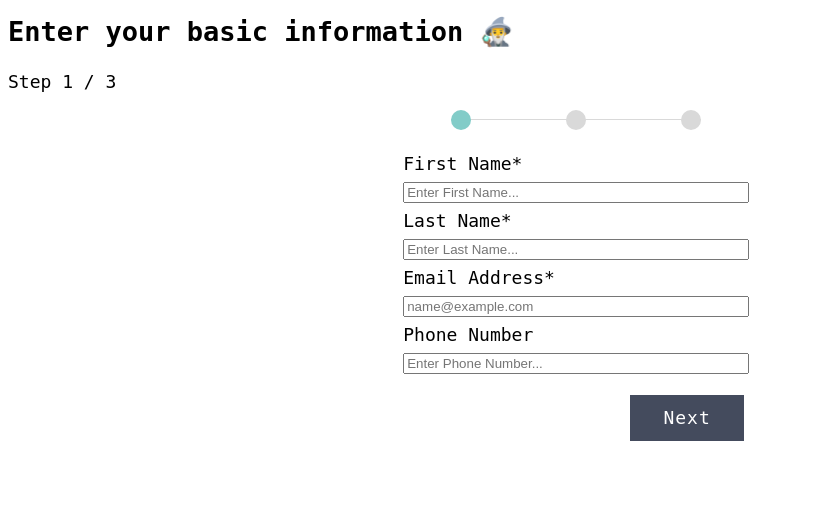
Scenario: email is required
In the field with test id "fname": (576, 192) [403,182,749,203], type "yueer"
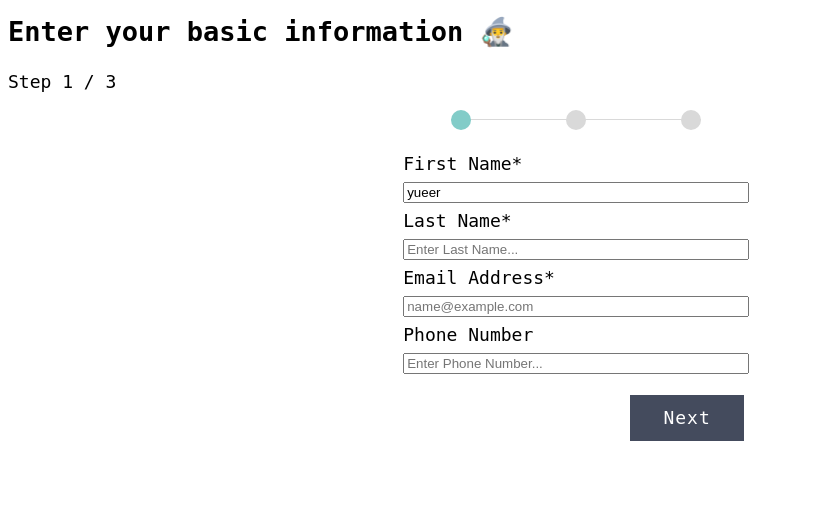
In the field with test id "lname": (576, 249) [403,239,749,260], type "chen"
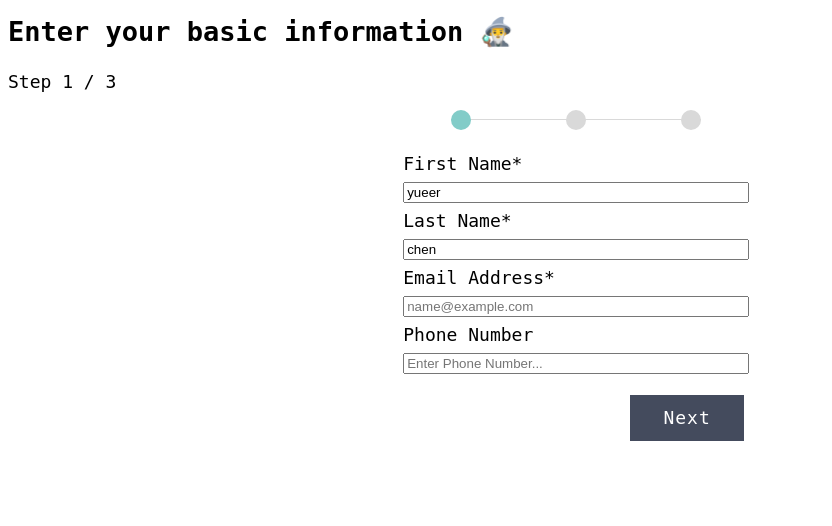
Click the button with test id "continue-first": (687, 418) [630,395,744,441]
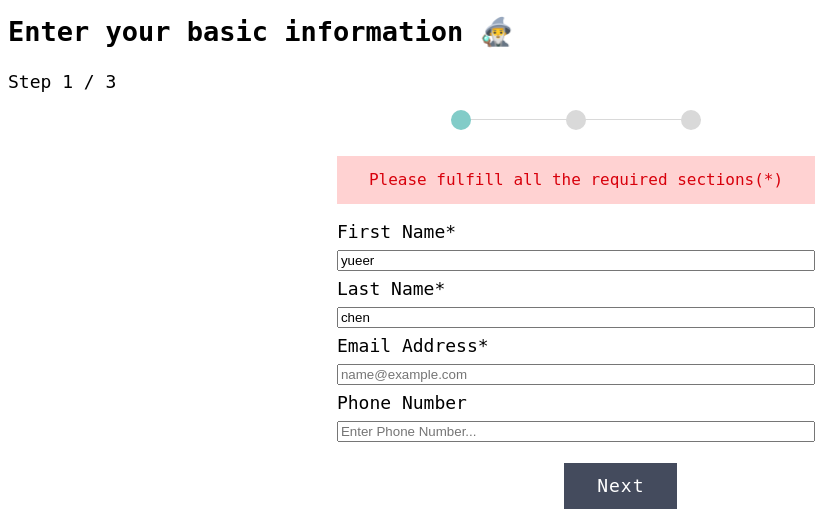
Check: the text with test id "details-error" reads "Please fulfill all the required sections(*)", box [369,170,783,189]
